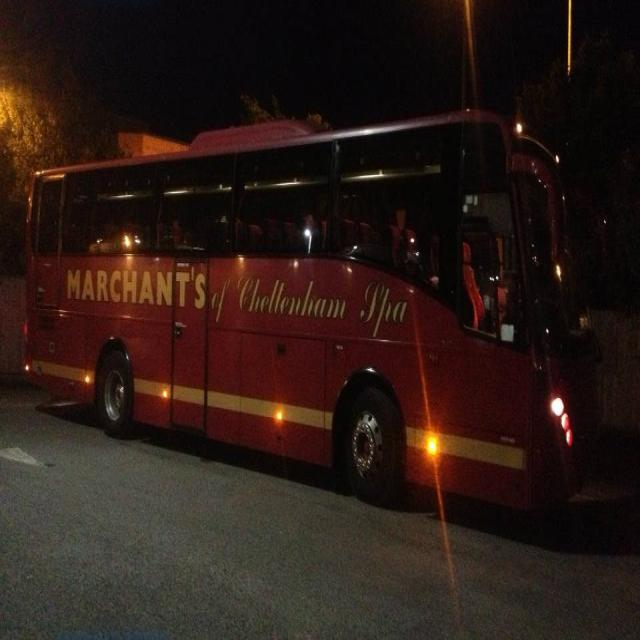Bus: (9, 105, 602, 510)
